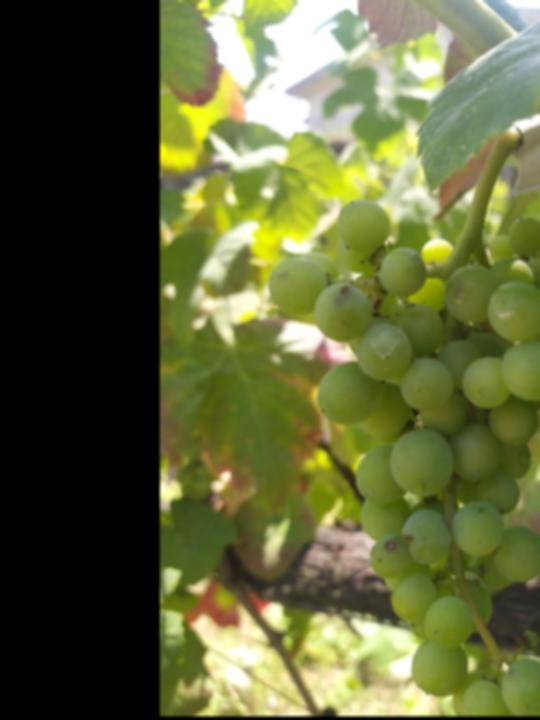grape: (268, 196, 540, 712)
